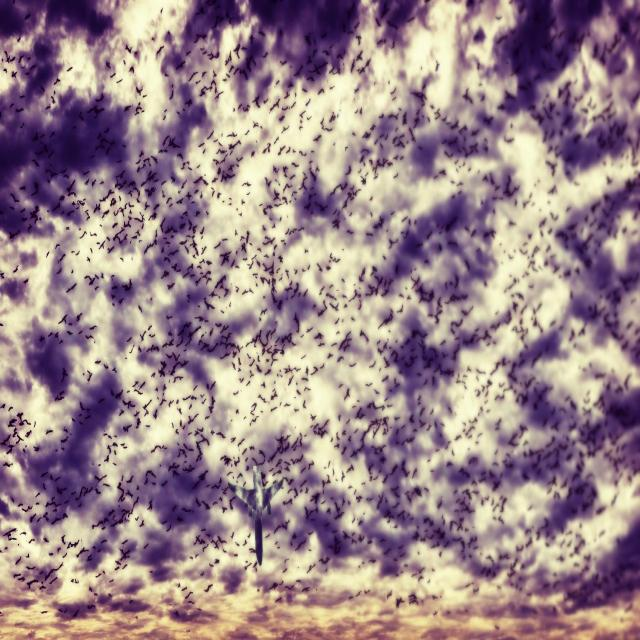airplane: (227, 464, 284, 566)
